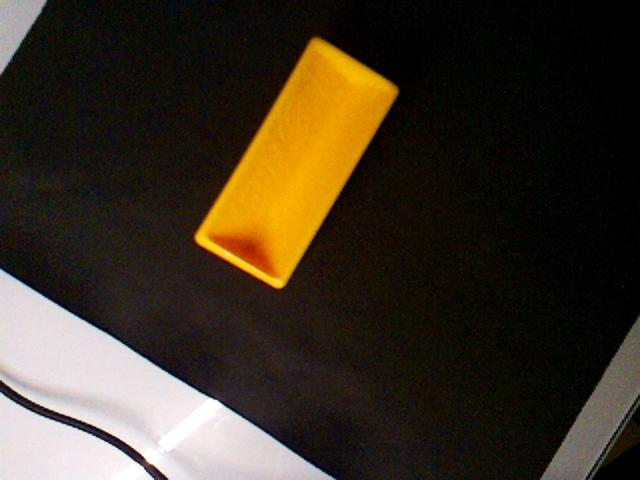yellow: (193, 35, 401, 290)
